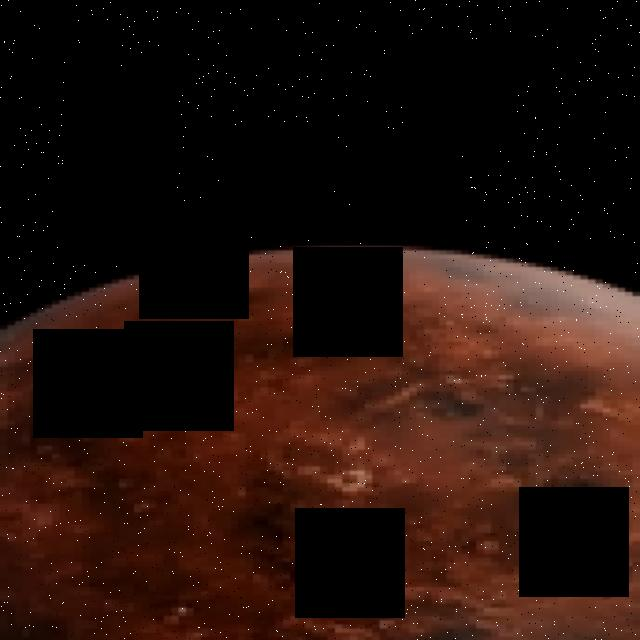Venus: (0, 241, 640, 640)
